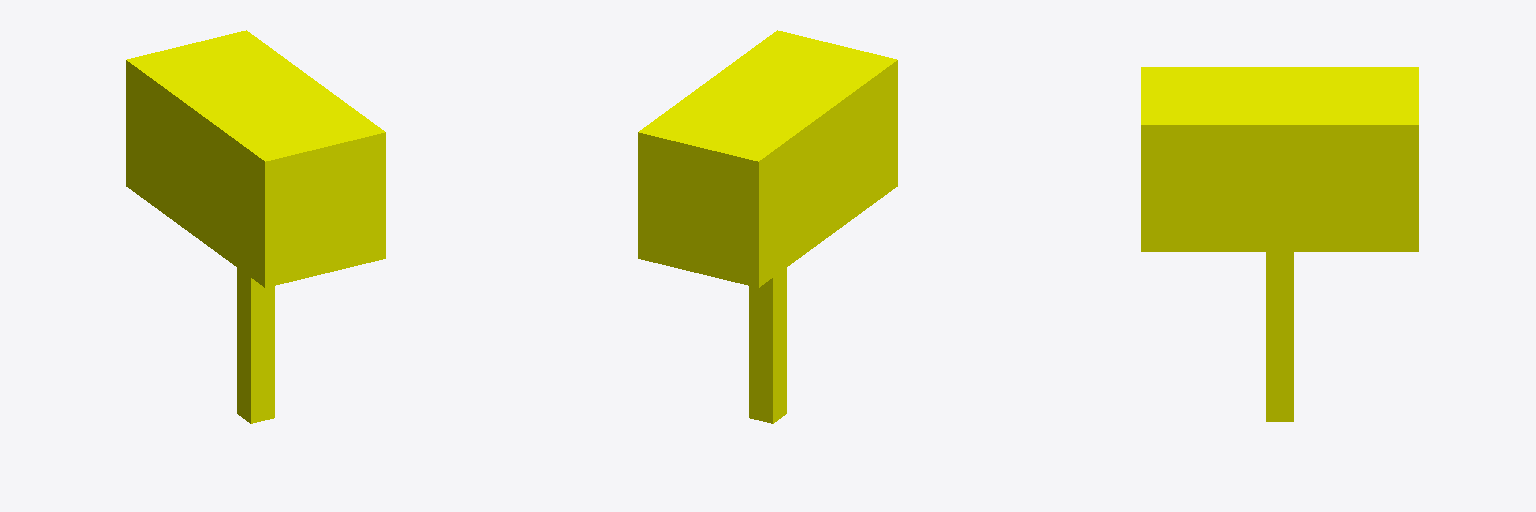
3 renders of one model, left to right at view 1: azimuth 30°, elevation 25°; view 2: azimuth 150°, elevation 25°; view 3: azimuth 270°, elevation 25°, orthographic.
Visible parts, largest first — view 1: 立方体.001; view 2: 立方体.001; view 3: 立方体.001.
Part boxes in pixels (left/top/right/bottom): 立方体.001: left=126, top=30, right=385, bottom=423; 立方体.001: left=638, top=30, right=897, bottom=423; 立方体.001: left=1141, top=67, right=1418, bottom=421.
Bounding box in the file's own units: 2 × 5.06 × 4.
Materials: 1 (1 with a texture image).